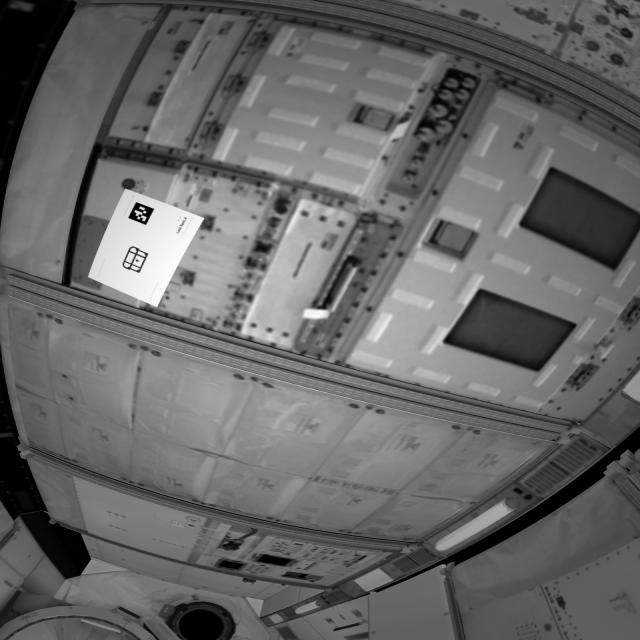treasure_box: (117, 243, 153, 277)
